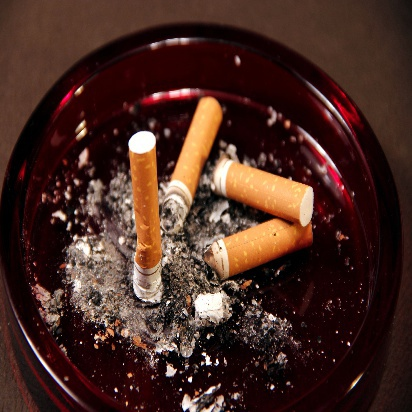cigarette: (205, 154, 318, 231), (165, 93, 219, 231), (122, 130, 165, 303), (209, 215, 314, 277)
